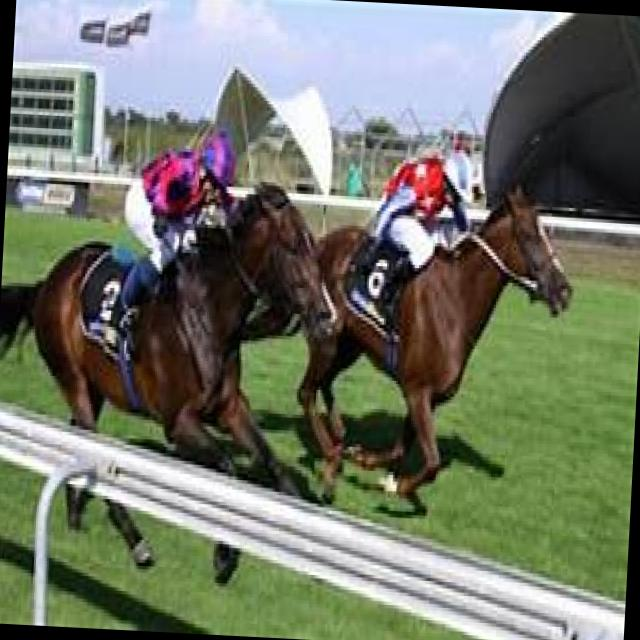animal: (0, 174, 342, 566), (301, 184, 578, 503)
